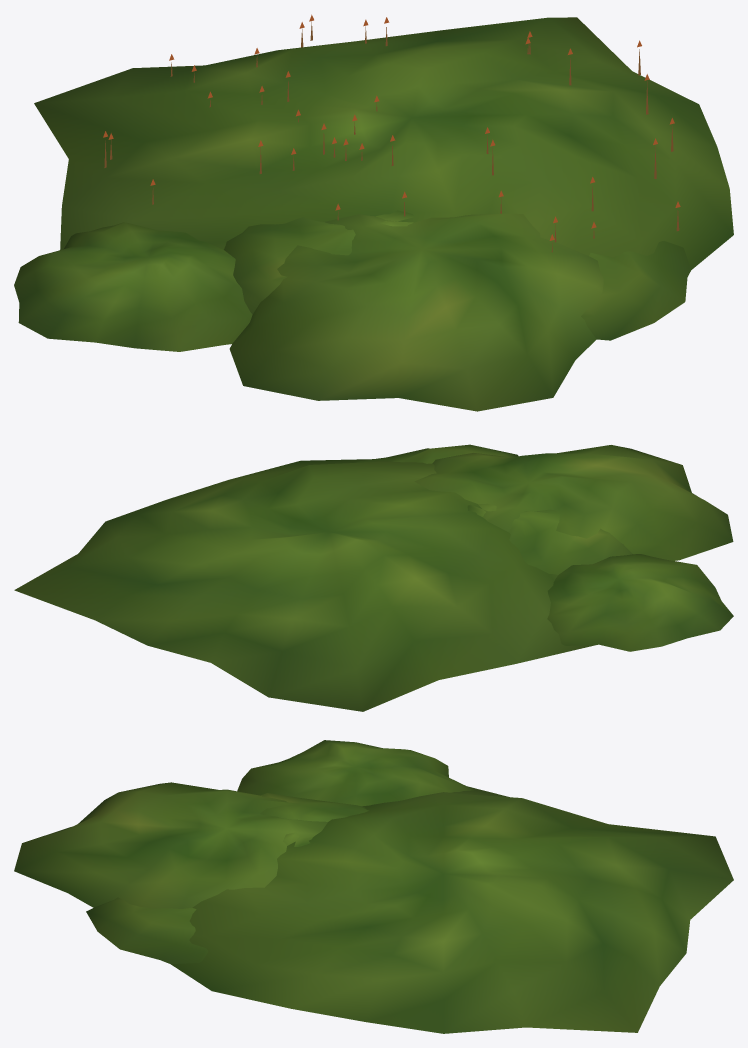
File: moss-mat-b.lod0.glb
3 views of the same model, one above another, from view 1: azimuth 30°, elevation 25°; view 2: azimuth 150°, elevation 25°; view 3: azimuth 270°, elevation 25° (orthographic). The views are drawn at different scales.
Bounding box in the file's own units: 0.8141 × 0.0917 × 0.8506.
